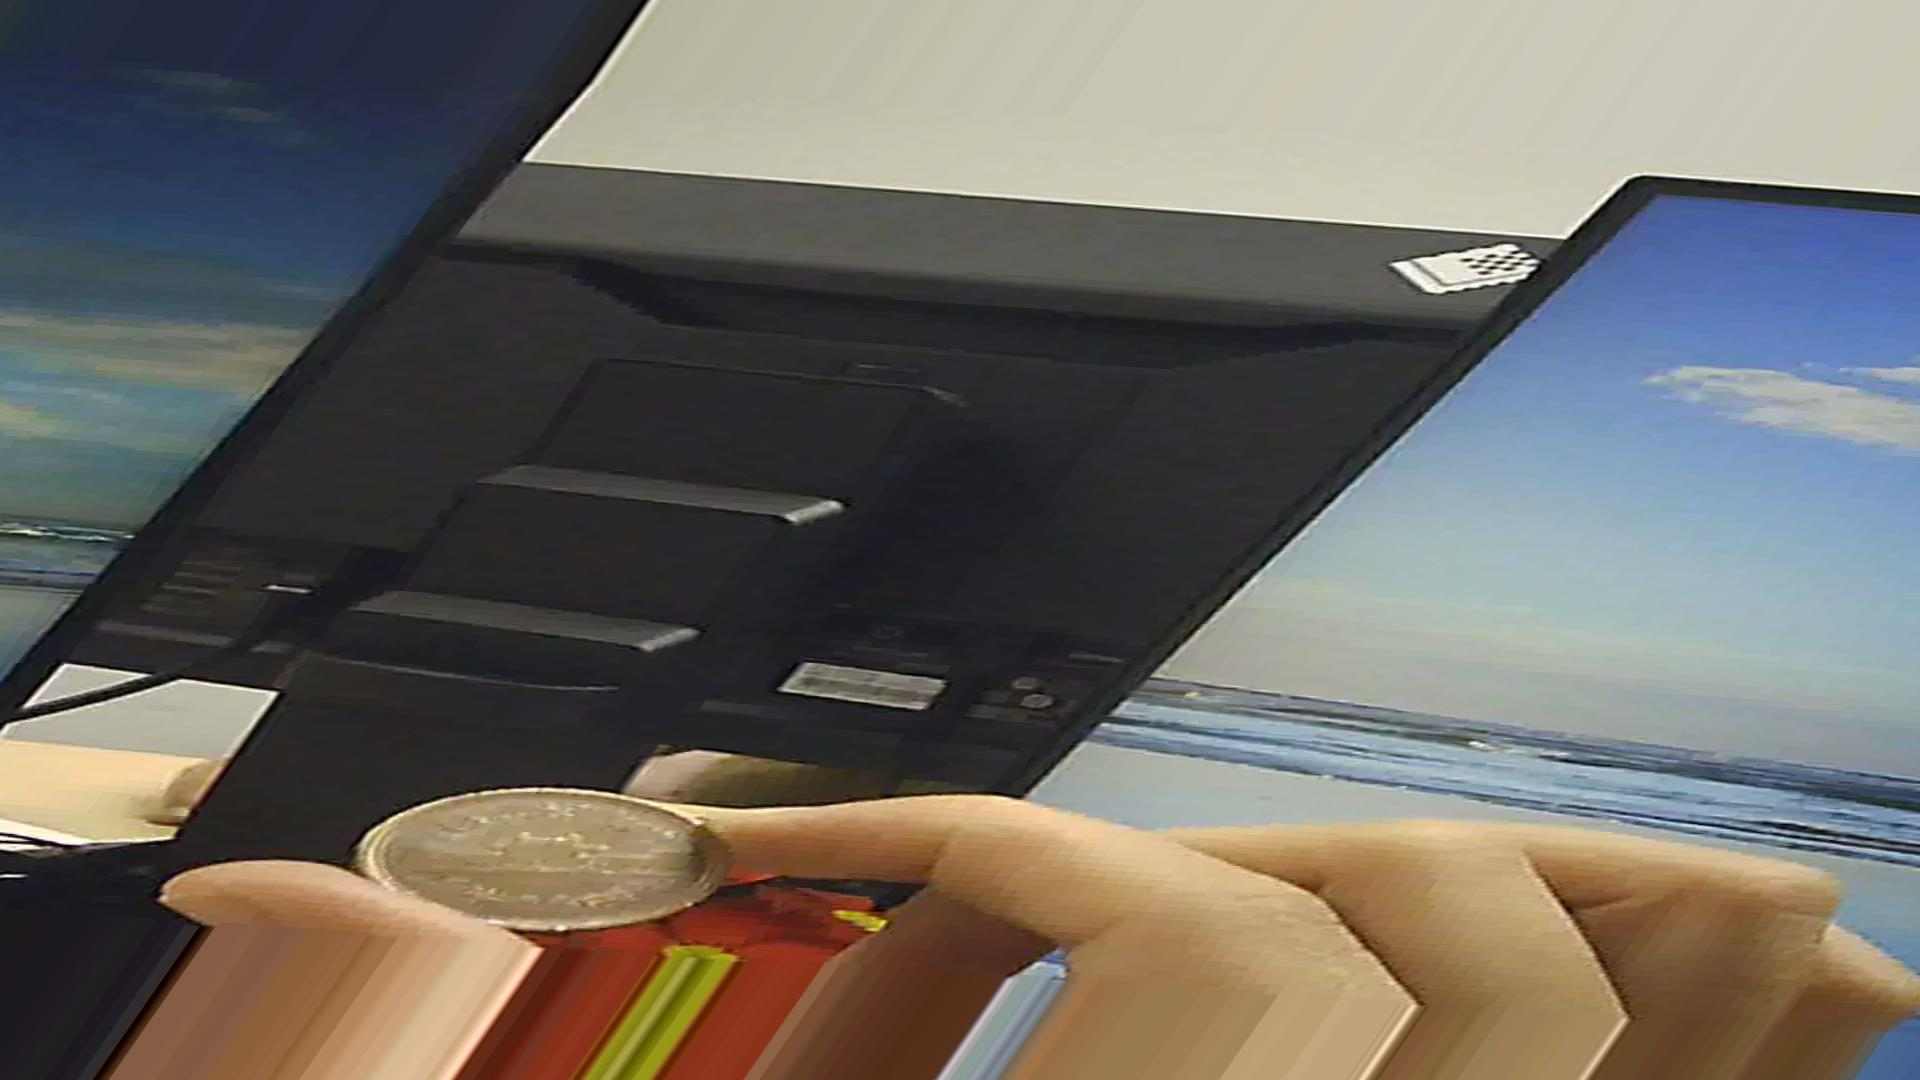10 Yen: (343, 770, 731, 944)
